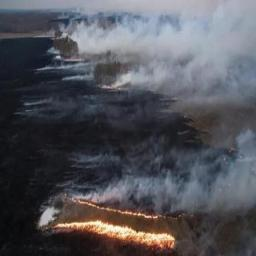Low smoke: (35, 0, 256, 256)
Small fire: (41, 186, 196, 256)
